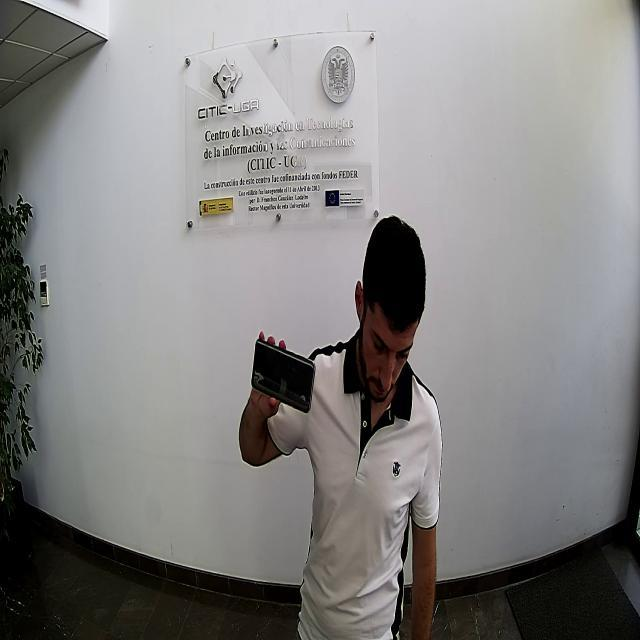phone: (249, 338, 317, 414)
